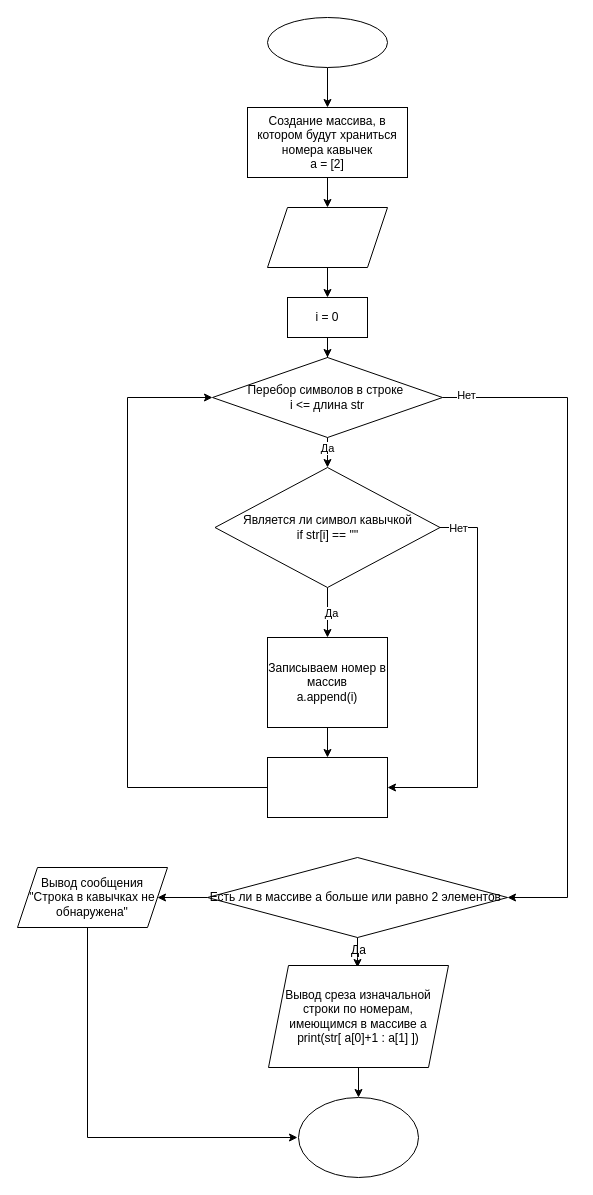
Some shapes in this 593 by 1195 pixel diagram are drawn without their labels. Here are the shapes that lost their labels. From the top down, the centre of each, then its label:
[327,42]: Начало
[327,237]: Ввод строки str = input
[327,787]: i = i + 1
[358,1137]: Конец
